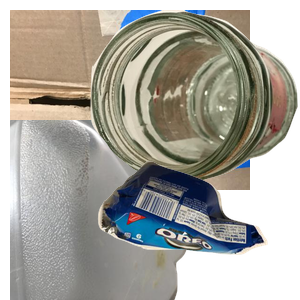cardboard: (10, 10, 250, 190)
glass: (90, 10, 300, 184)
plastic: (10, 120, 190, 300)
trash: (95, 158, 300, 300)
